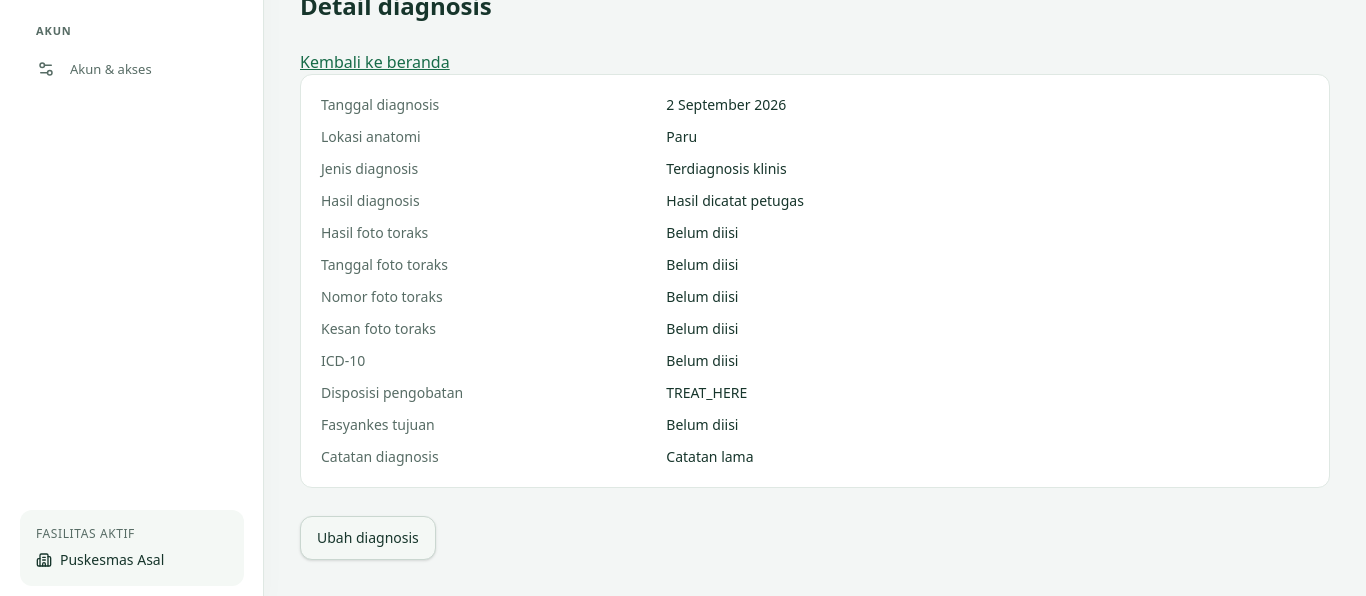
retains view access without PATIENT_READ but never bypasses reference-directory permissions
This screenshot has width=1366, height=596.
Click the button "Ubah diagnosis" at (368,538), box [300, 516, 436, 560]
(page scrolled)
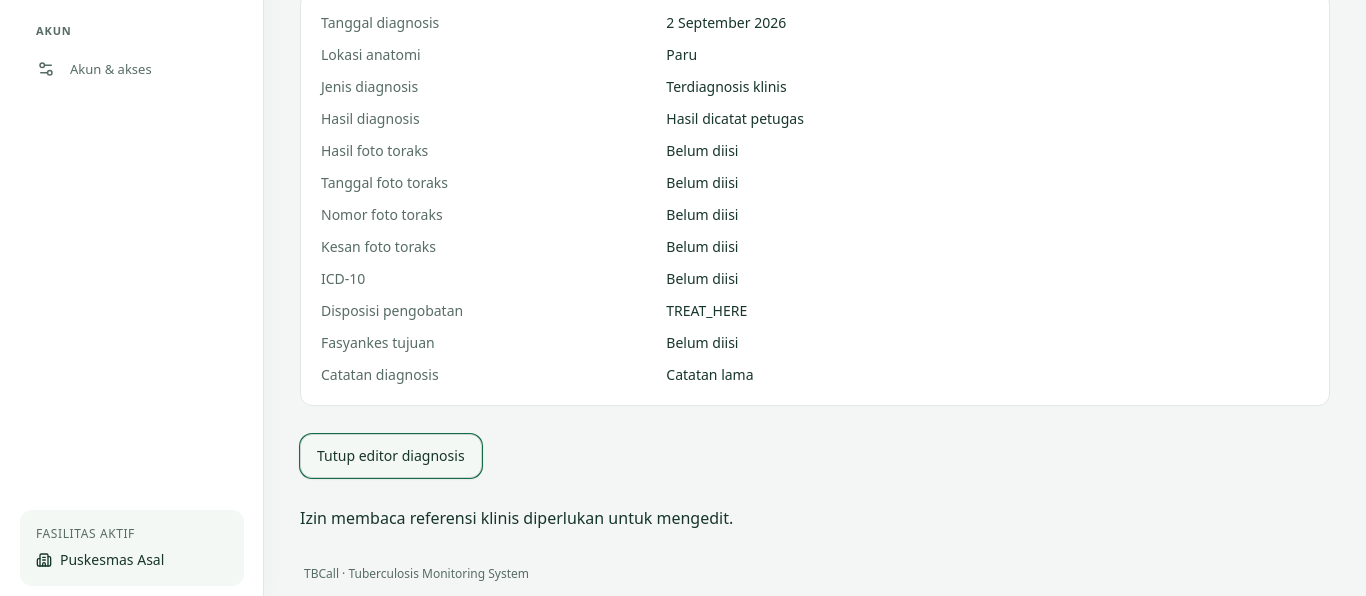
Expected: the text "Izin membaca referensi klinis diperlukan untuk mengedit." is shown, [300, 507, 733, 529]
